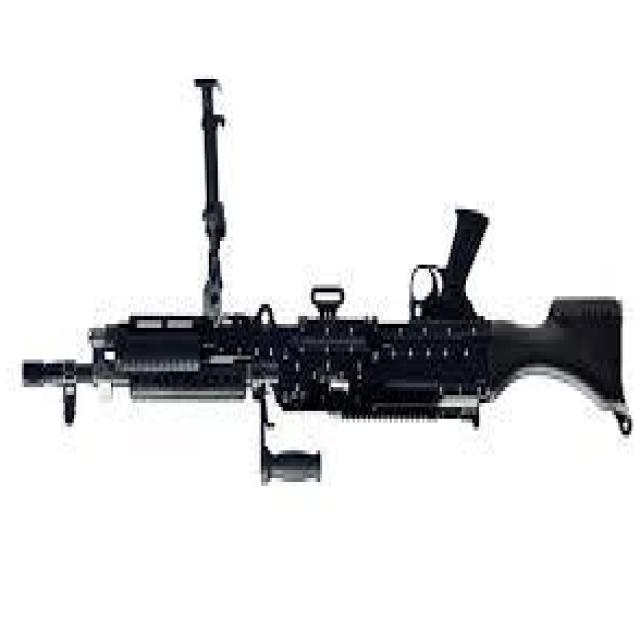Gun: (21, 72, 636, 521)
